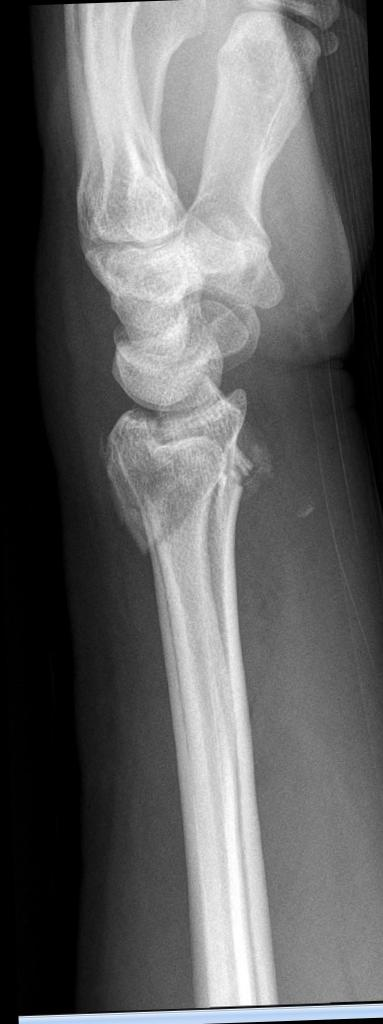angle: (205, 444, 257, 518)
line: (154, 496, 206, 548)
